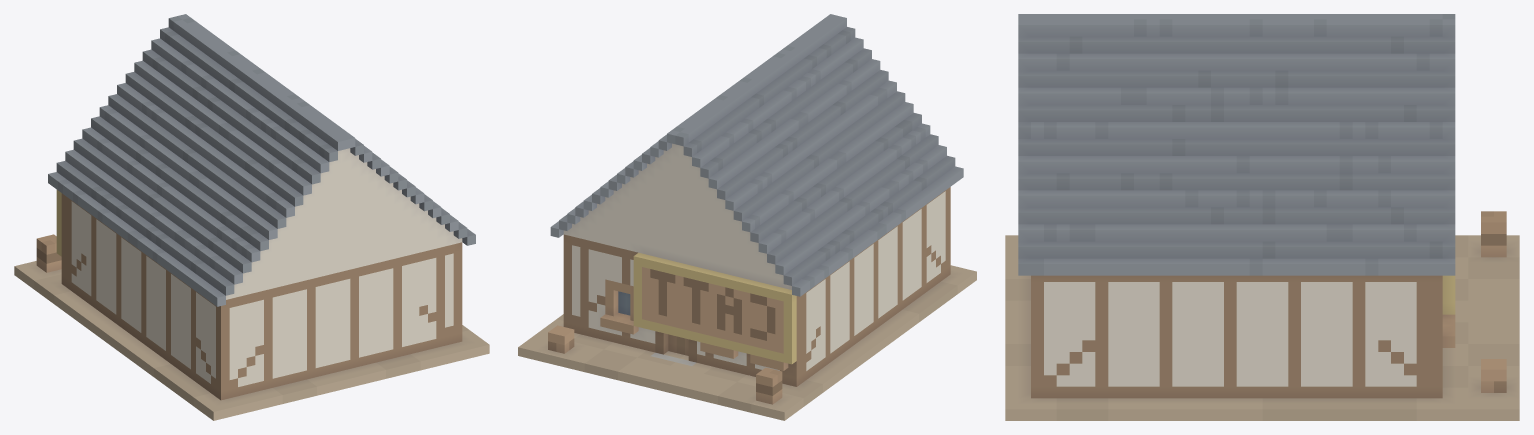
Rendered from cattle_farm.glb.
3 views of the same model, side by side, from view 1: azimuth 30°, elevation 25°; view 2: azimuth 150°, elevation 25°; view 3: azimuth 270°, elevation 25° (orthographic). The views are drawn at different scales.
Visible parts, largest first — view 1: cattle_farm; view 2: cattle_farm; view 3: cattle_farm.
Part boxes in pixels (left/top/right/bottom): cattle_farm: left=14, top=14, right=489, bottom=420; cattle_farm: left=518, top=14, right=976, bottom=420; cattle_farm: left=1005, top=14, right=1519, bottom=420.
Bounding box in the file's own units: 4 × 3.38 × 5.
